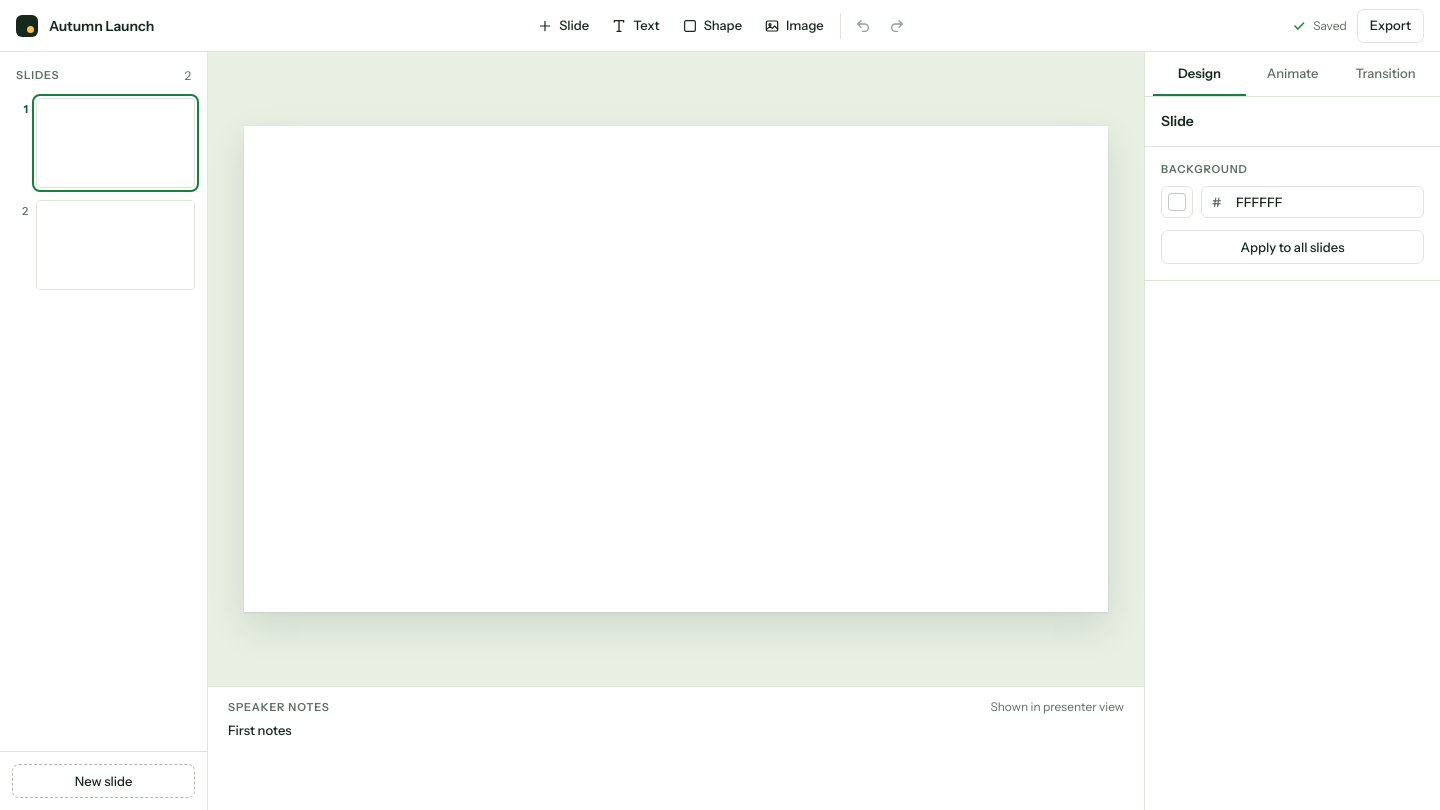
Test: Given two slides with different notes, When the slide changes, Then each shows its own notes
Check: the option named "Slide 1" is shown, box [12,98,195,188]
Check: the text box named "Speaker notes text" holds "First notes", box [228,721,1124,798]
Click the option named "Slide 2": (104, 245) [12,200,195,290]
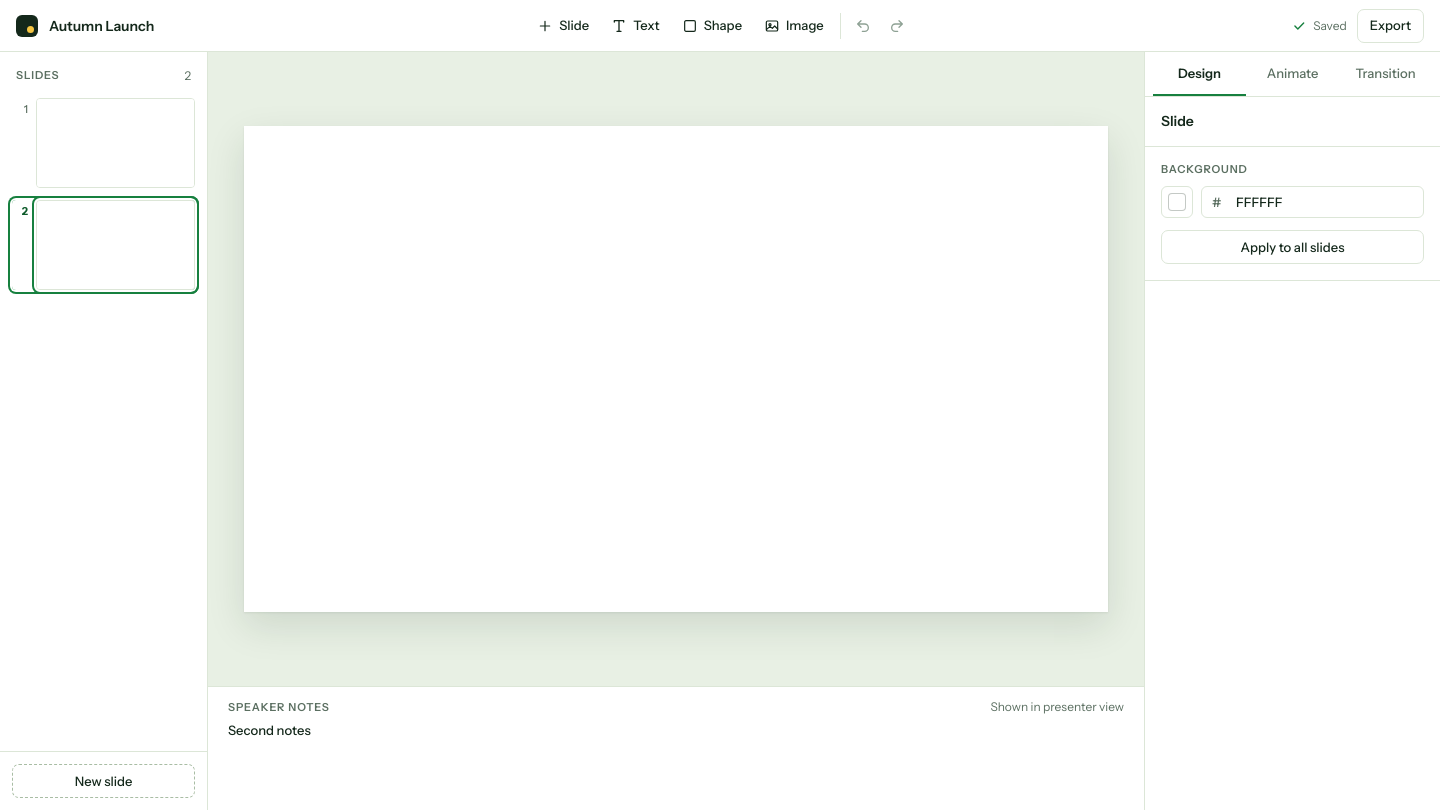
Check: the text box named "Speaker notes text" holds "Second notes", box [228,721,1124,798]
